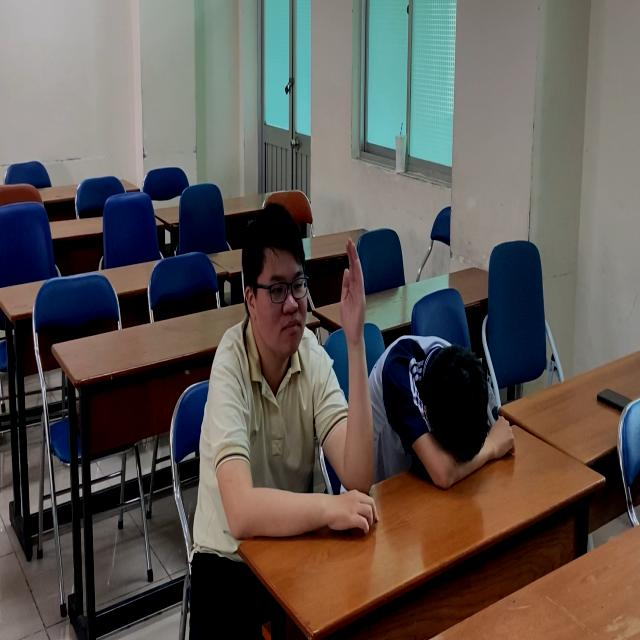raise_hand: (212, 200, 375, 551)
sleep: (375, 317, 521, 494)
